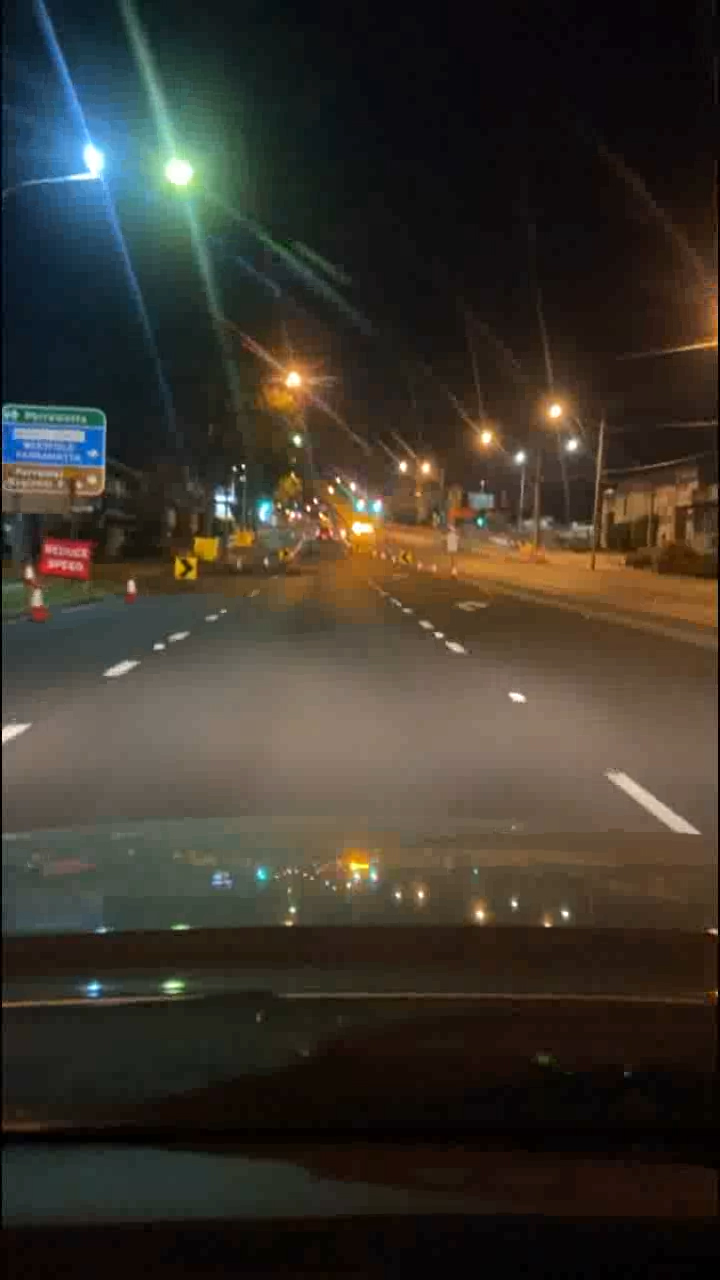road cone: (27, 588, 47, 615), (122, 577, 137, 602)
road works sign board: (39, 538, 89, 579), (174, 554, 193, 583), (229, 531, 256, 546), (397, 550, 414, 563)
